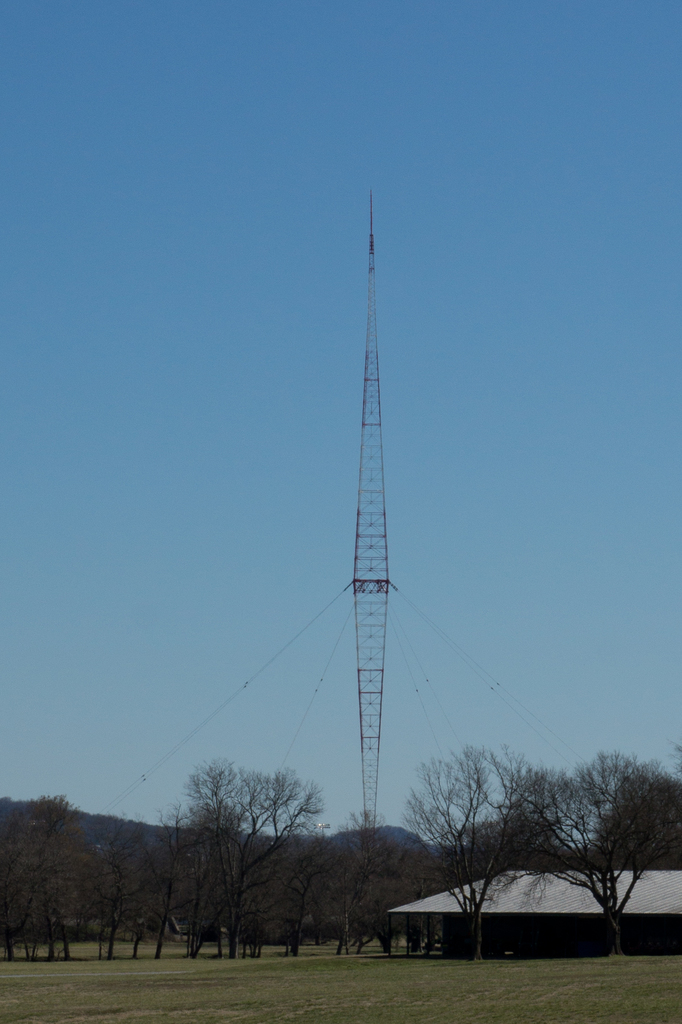Tree: (0, 740, 682, 961)
